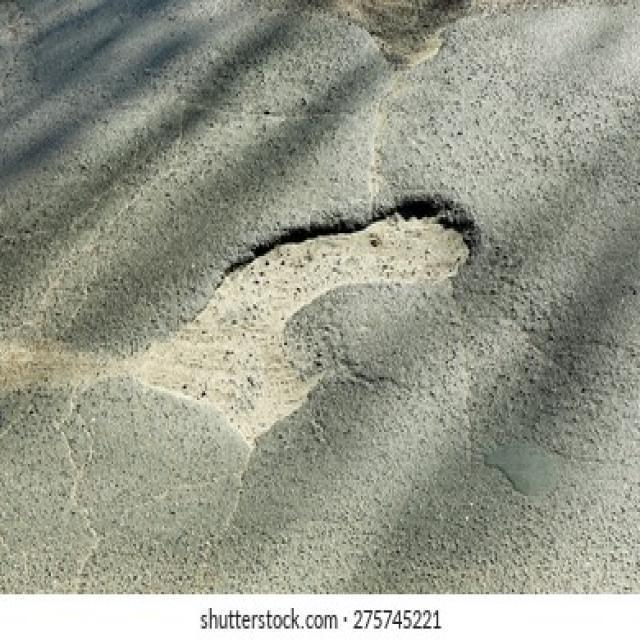Buraco: (132, 193, 488, 442), (304, 0, 506, 73)
